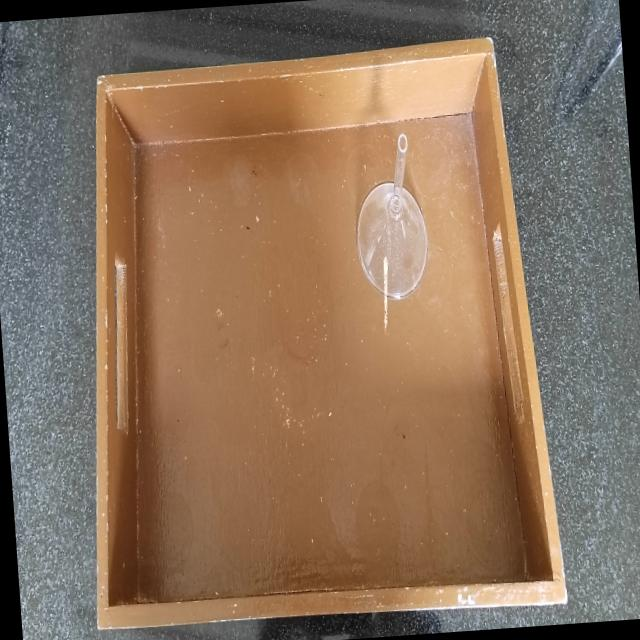funnel: (336, 121, 442, 307)
